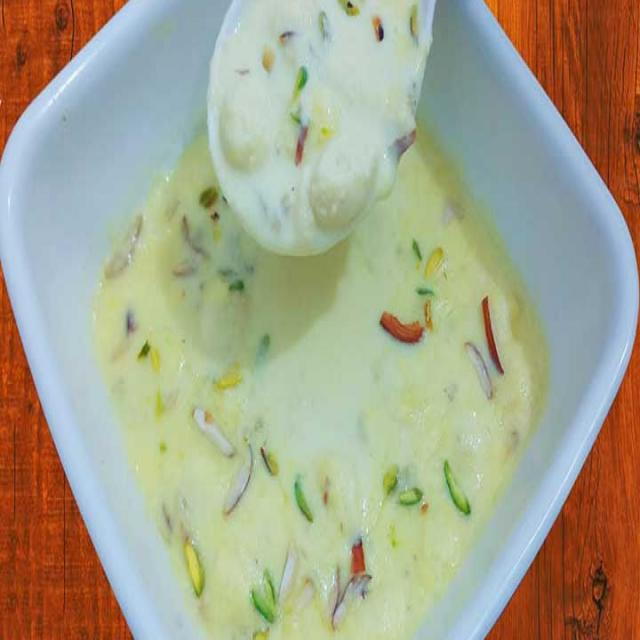Kheer: (96, 0, 544, 640)
